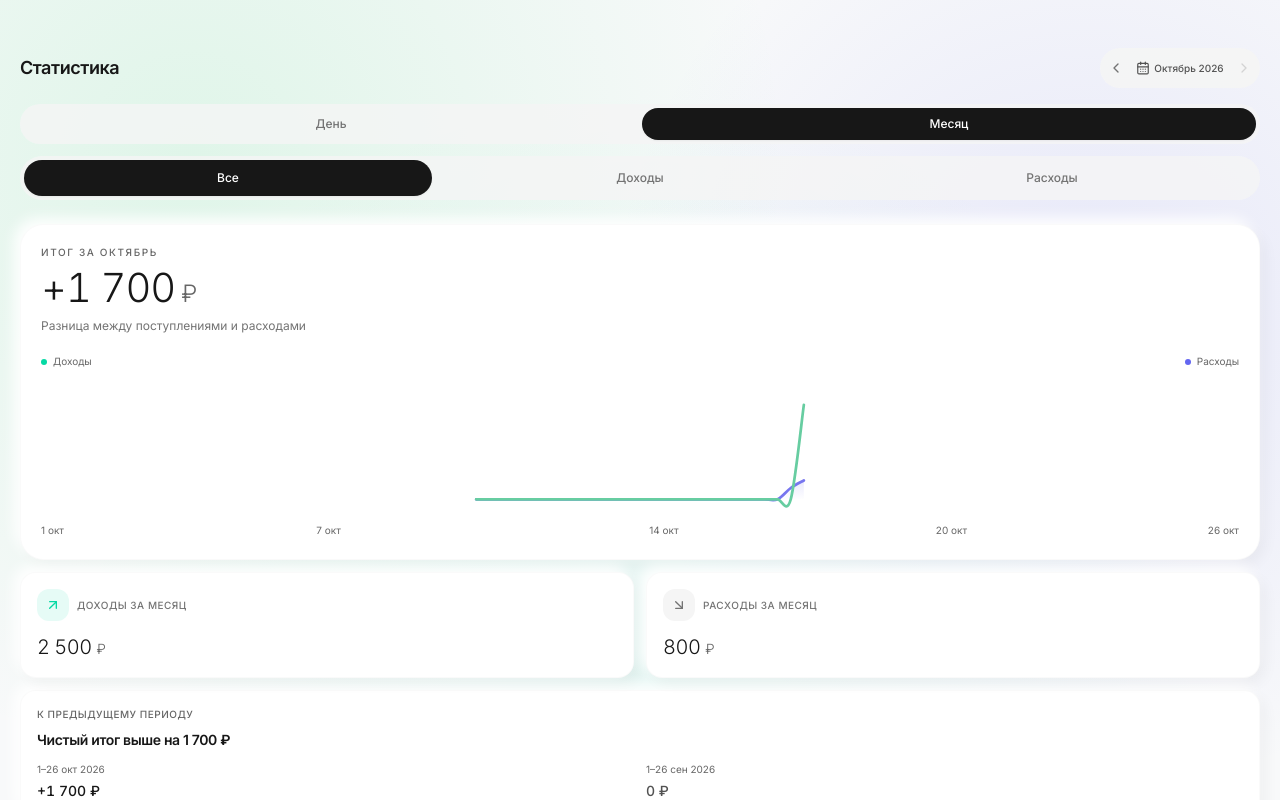
StatisticsScreen daily and monthly views › moves to yesterday and updates daily totals and categories
Click the button "День". click: (331, 124)
box: x1=24 y1=108 x2=638 y2=140
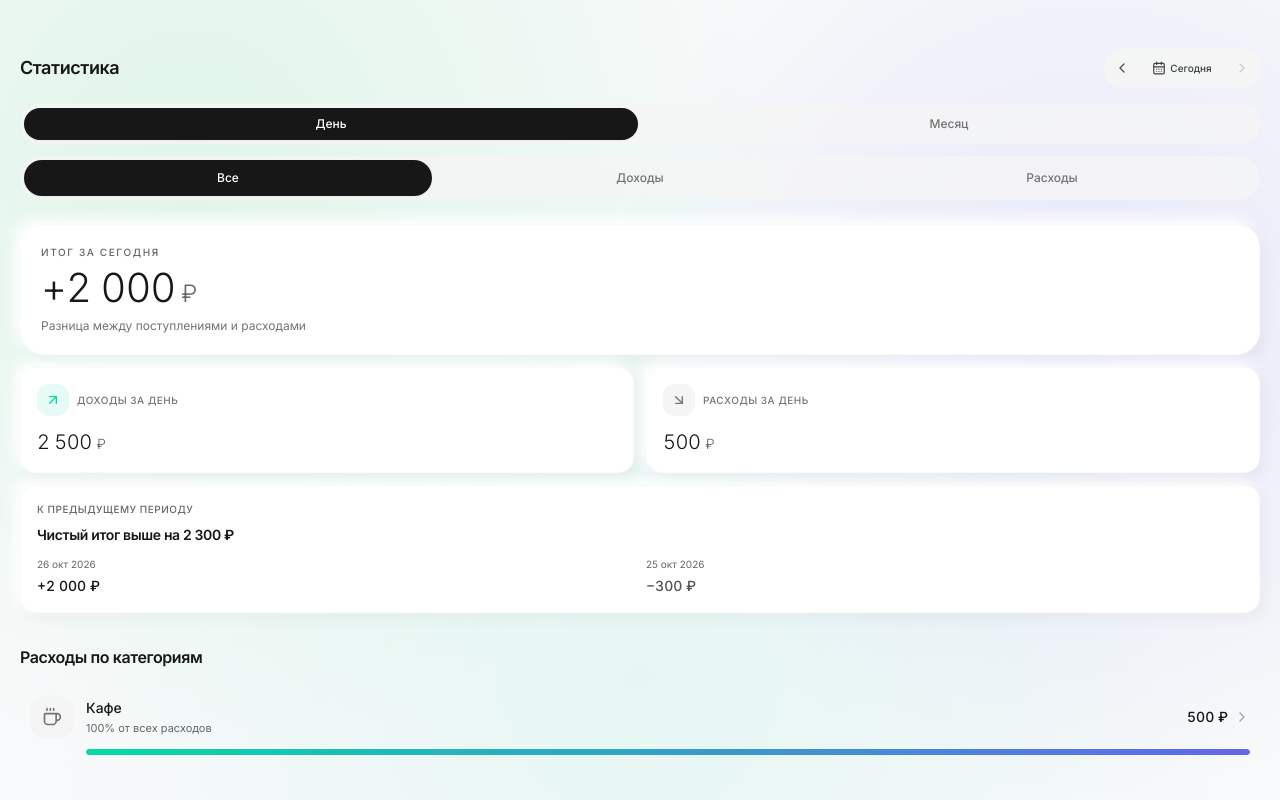
Click the button "Расходы". click: (1052, 178)
box: x1=848 y1=160 x2=1256 y2=196
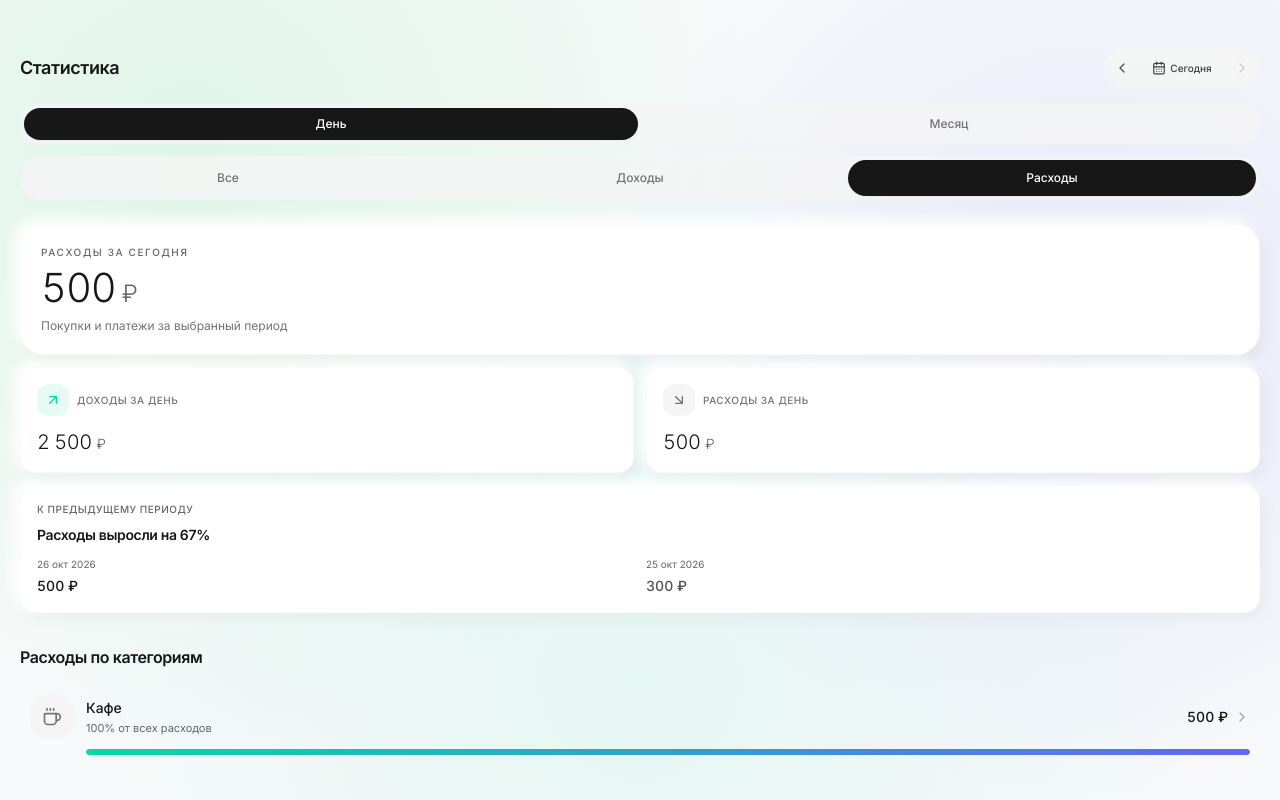
Click the button named "Предыдущий день". click: (1122, 68)
box: x1=1108 y1=52 x2=1136 y2=84
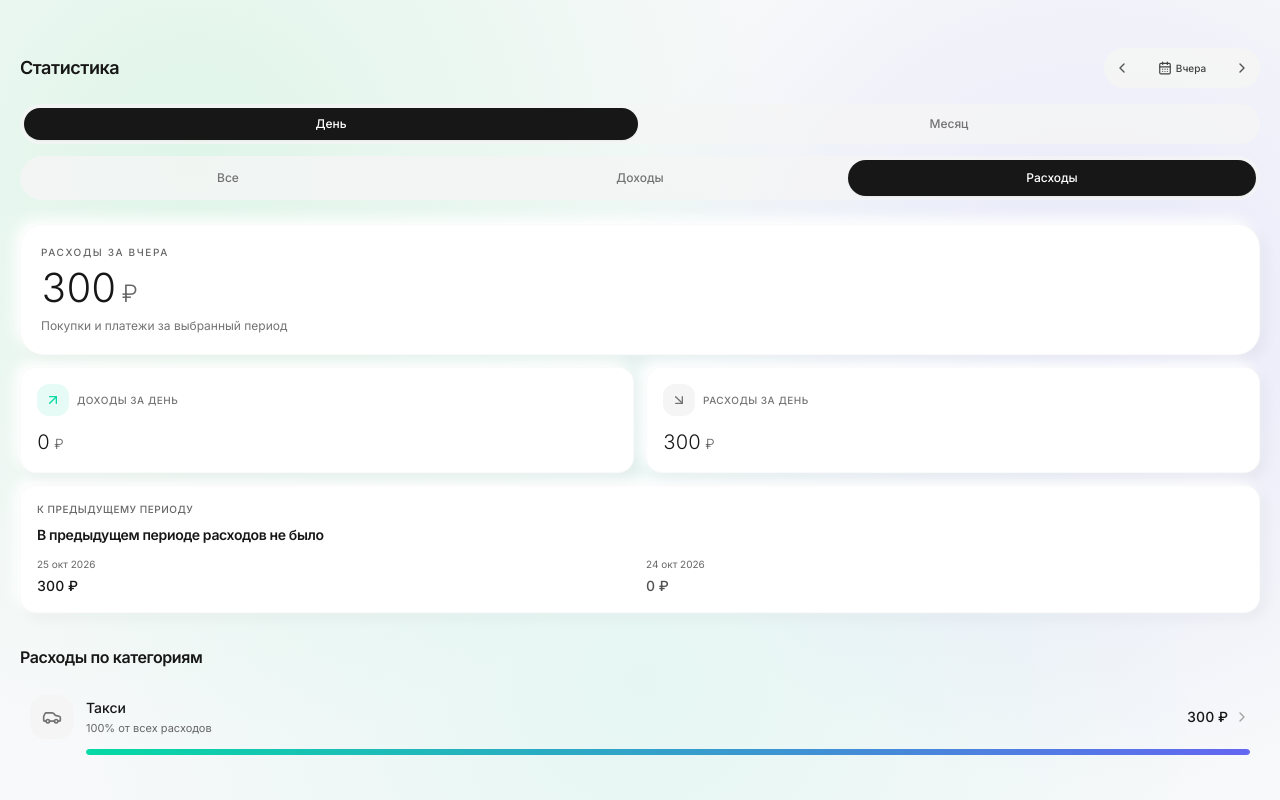
Now the text "Расходы за вчера" is shown, box x1=41 y1=246 x2=169 y2=258
Now the text "Такси" is shown, box x1=86 y1=699 x2=126 y2=716
